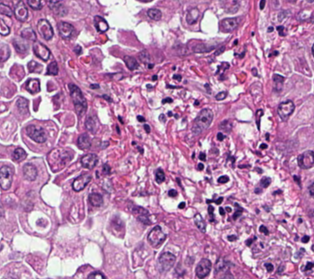nucleus: (68, 83, 86, 115), (192, 108, 212, 133), (147, 225, 165, 246), (130, 205, 150, 223), (72, 173, 91, 191), (26, 125, 46, 142), (33, 41, 50, 60), (158, 252, 175, 271), (195, 258, 211, 277), (0, 165, 12, 189), (80, 153, 97, 168), (23, 163, 37, 180), (77, 133, 90, 149), (85, 115, 97, 132), (194, 214, 205, 232), (12, 147, 26, 161), (21, 28, 35, 41), (123, 56, 137, 69), (26, 79, 39, 93), (16, 97, 27, 113), (89, 193, 102, 206), (273, 74, 283, 90), (28, 61, 41, 72), (47, 61, 58, 74), (139, 49, 149, 63), (14, 41, 26, 52), (219, 120, 231, 131), (1, 44, 9, 60), (155, 168, 164, 182), (87, 272, 105, 278), (260, 177, 270, 187), (233, 208, 241, 218), (215, 92, 226, 99), (259, 225, 267, 234), (218, 176, 228, 183), (265, 263, 273, 271), (74, 45, 81, 54), (168, 189, 176, 196), (103, 164, 109, 173), (217, 133, 223, 140), (199, 153, 205, 160), (215, 197, 222, 203), (144, 124, 149, 132), (208, 206, 213, 214), (162, 98, 171, 102), (178, 202, 184, 208), (137, 116, 144, 121), (219, 208, 224, 215), (90, 84, 98, 88), (228, 236, 236, 240), (198, 163, 203, 169), (173, 75, 180, 79), (260, 144, 266, 148), (148, 64, 152, 68), (152, 75, 156, 79), (227, 207, 230, 211)
